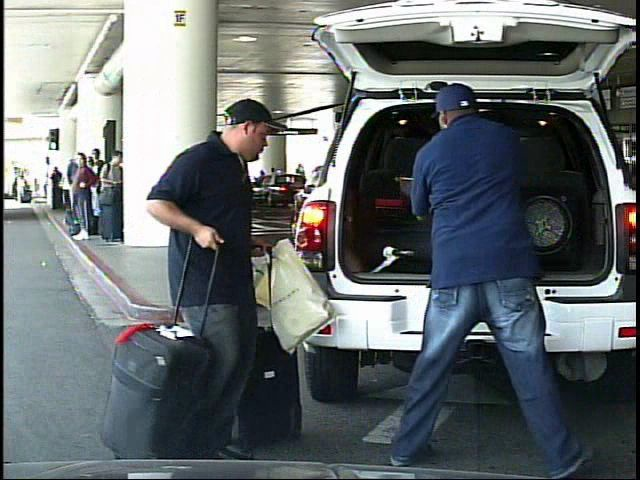person: (356, 76, 589, 478), (129, 99, 276, 461), (294, 162, 307, 197), (16, 172, 27, 203)
